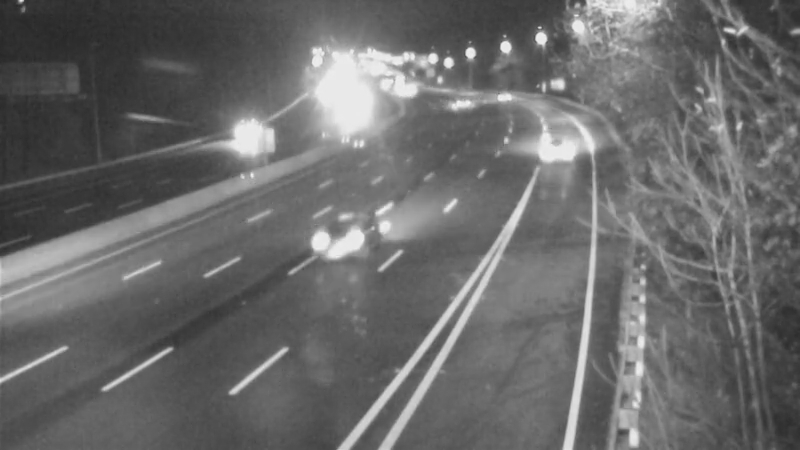vehicle: (291, 202, 371, 282), (465, 69, 515, 119), (435, 74, 485, 124), (525, 123, 575, 173), (206, 113, 256, 163)
